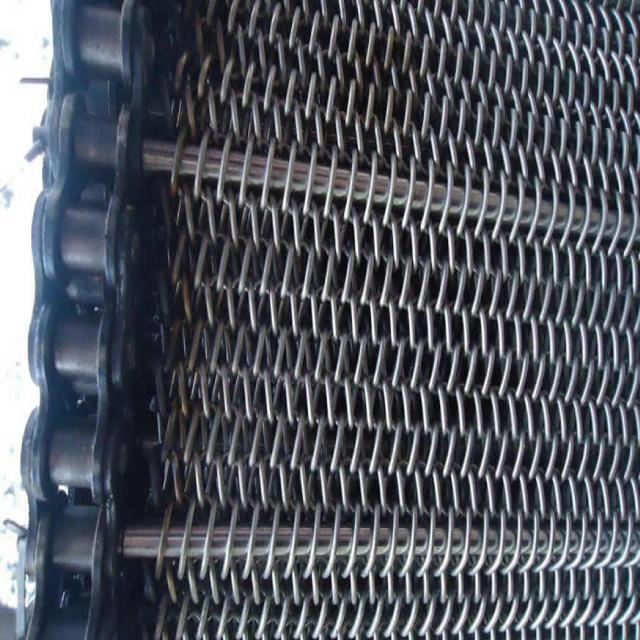conveyor: (37, 0, 640, 631)
